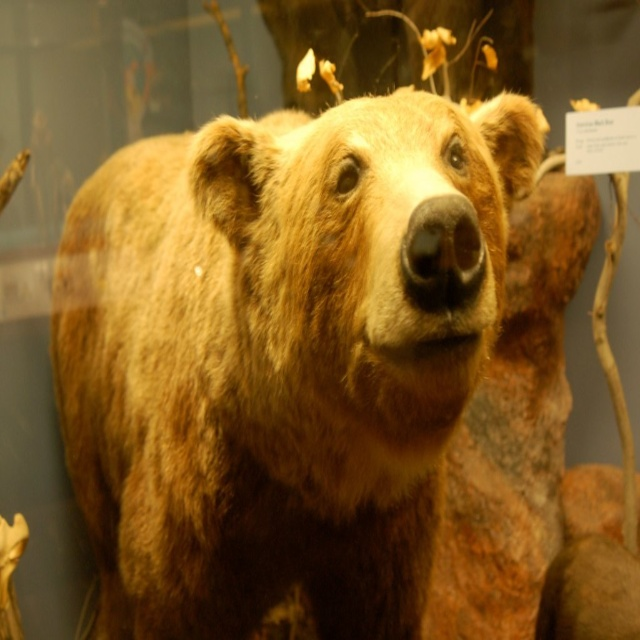Brown bear: (47, 84, 551, 639)
